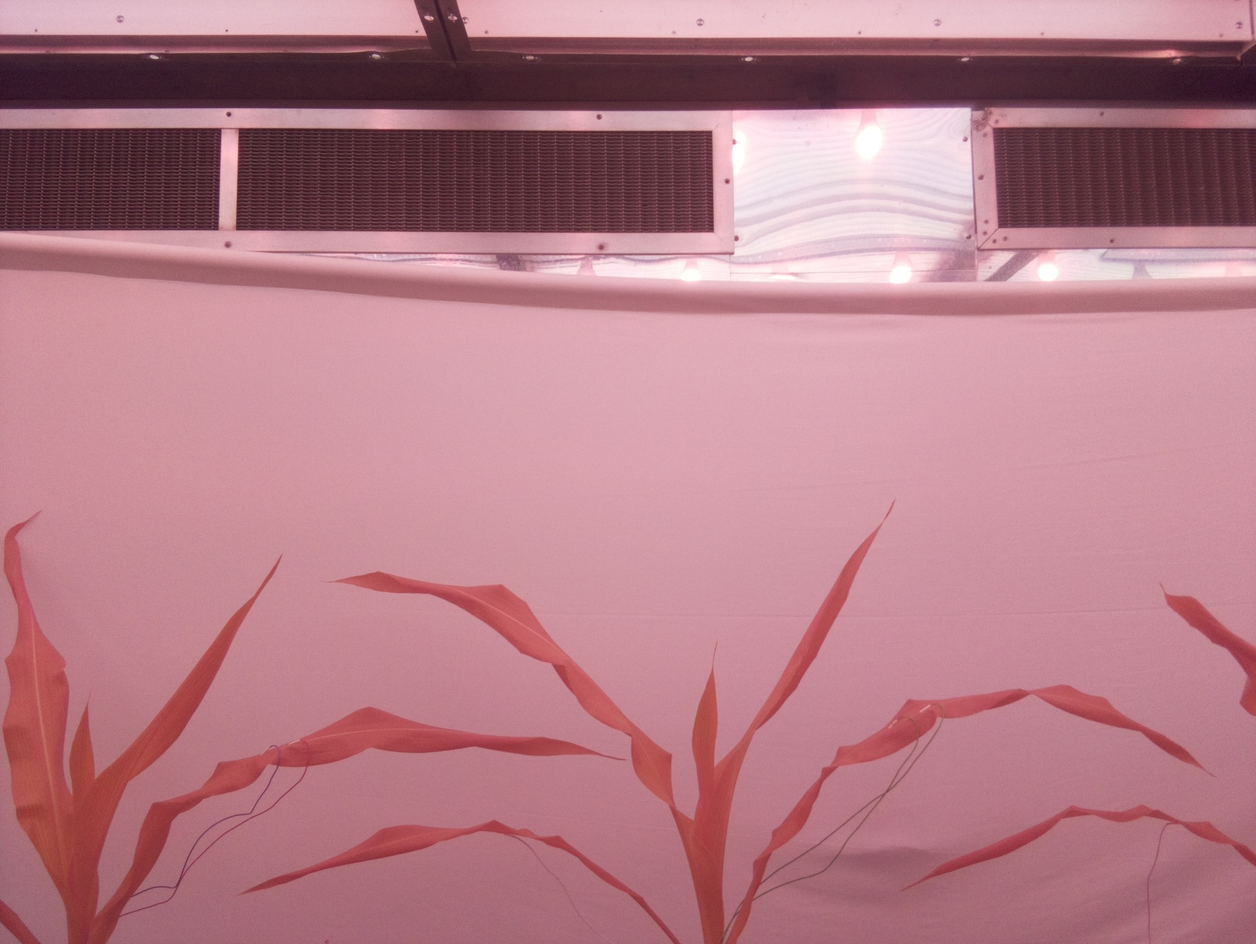maize: (238, 498, 1215, 944), (1, 503, 633, 944)
